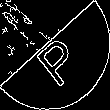P_NW: (26, 24, 84, 86)
